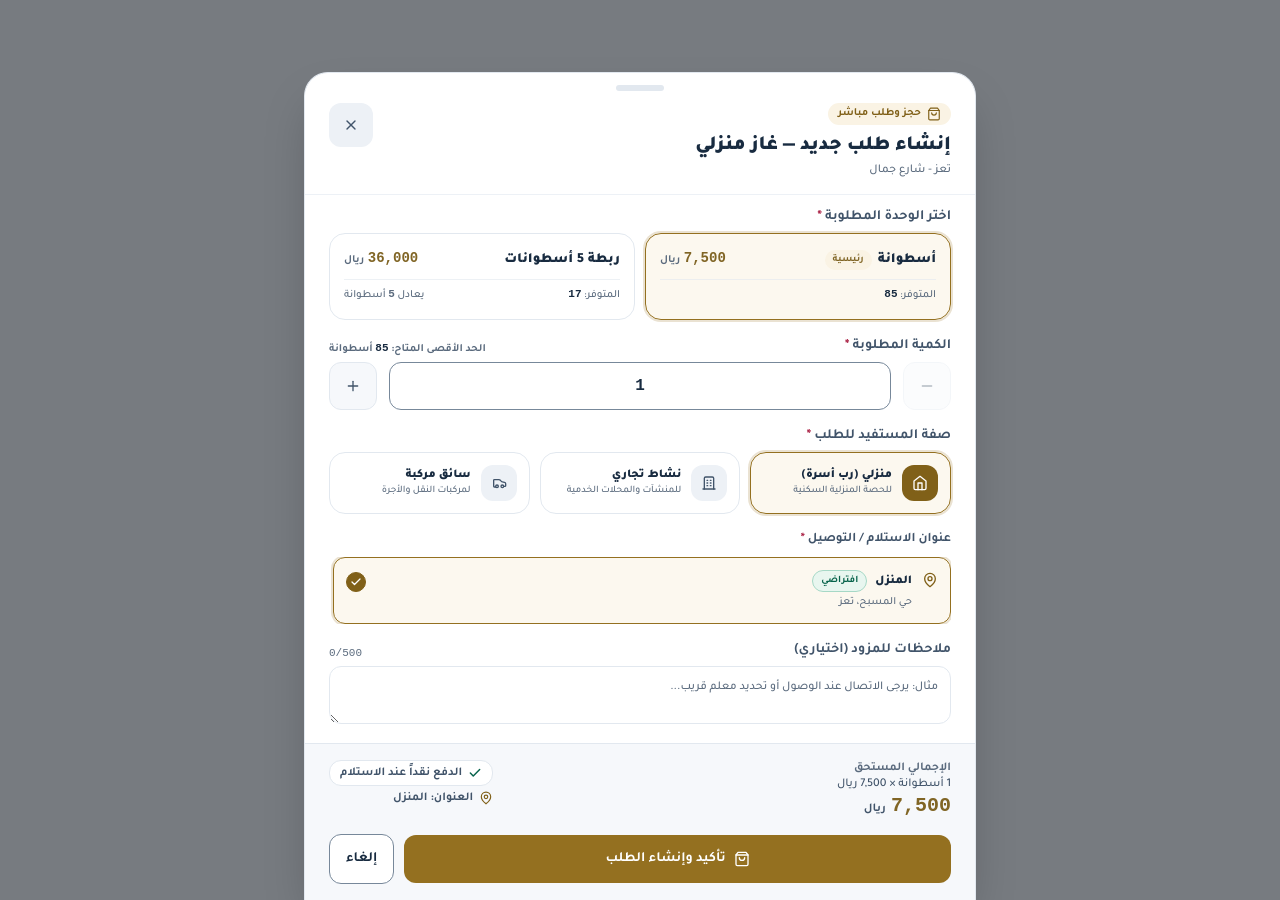
Test: CreateOrderSheet › يعرض رسالة الخطأ العربية عند رفض الخادم لصفة المستفيد (1803)
This screenshot has width=1280, height=900.
Expected: the text "المنزل" is shown, [875, 573, 912, 589]
Click the text "نشاط تجاري": (646, 475) [612, 469, 681, 481]
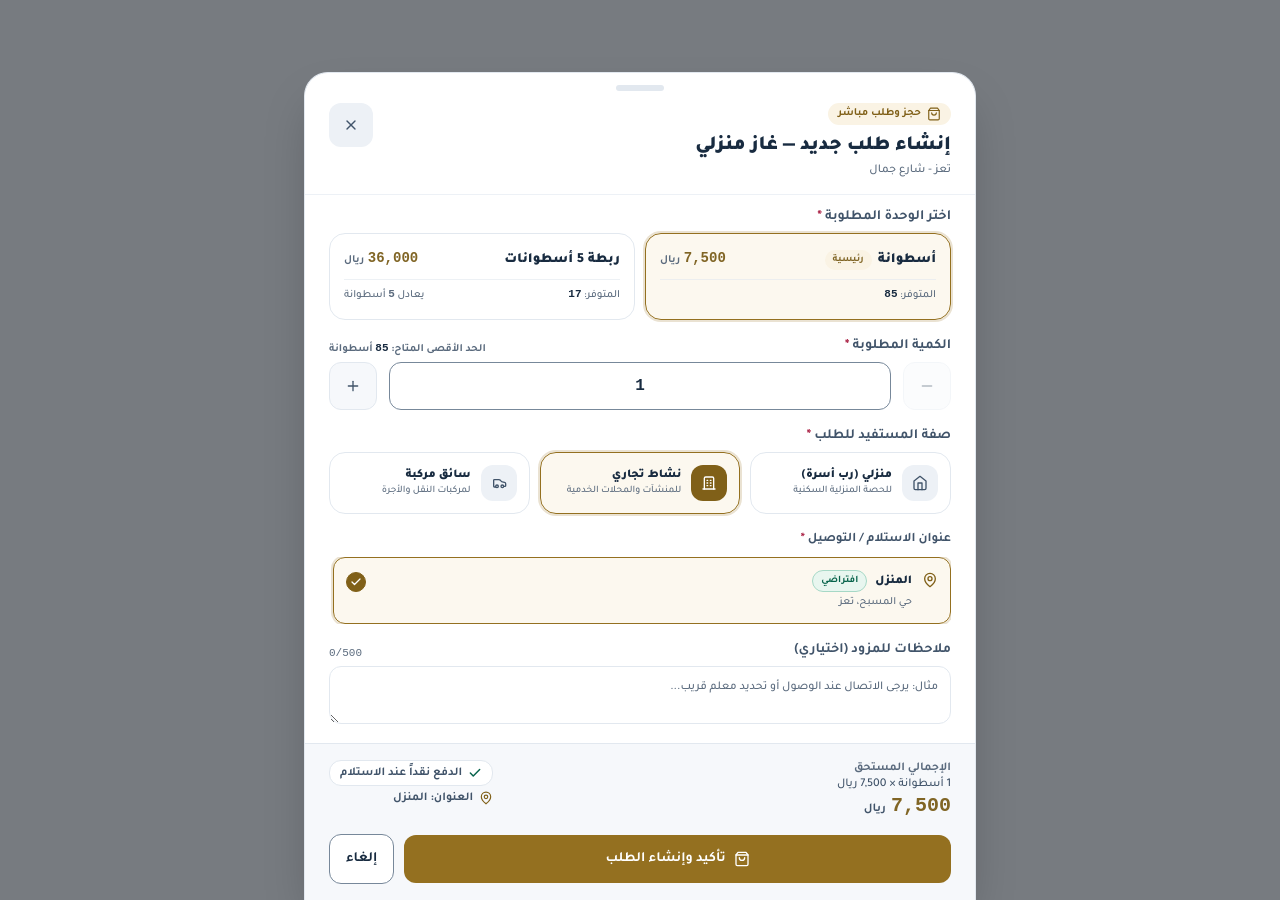
Click the button "تأكيد وإنشاء الطلب": (678, 859) [404, 835, 951, 883]
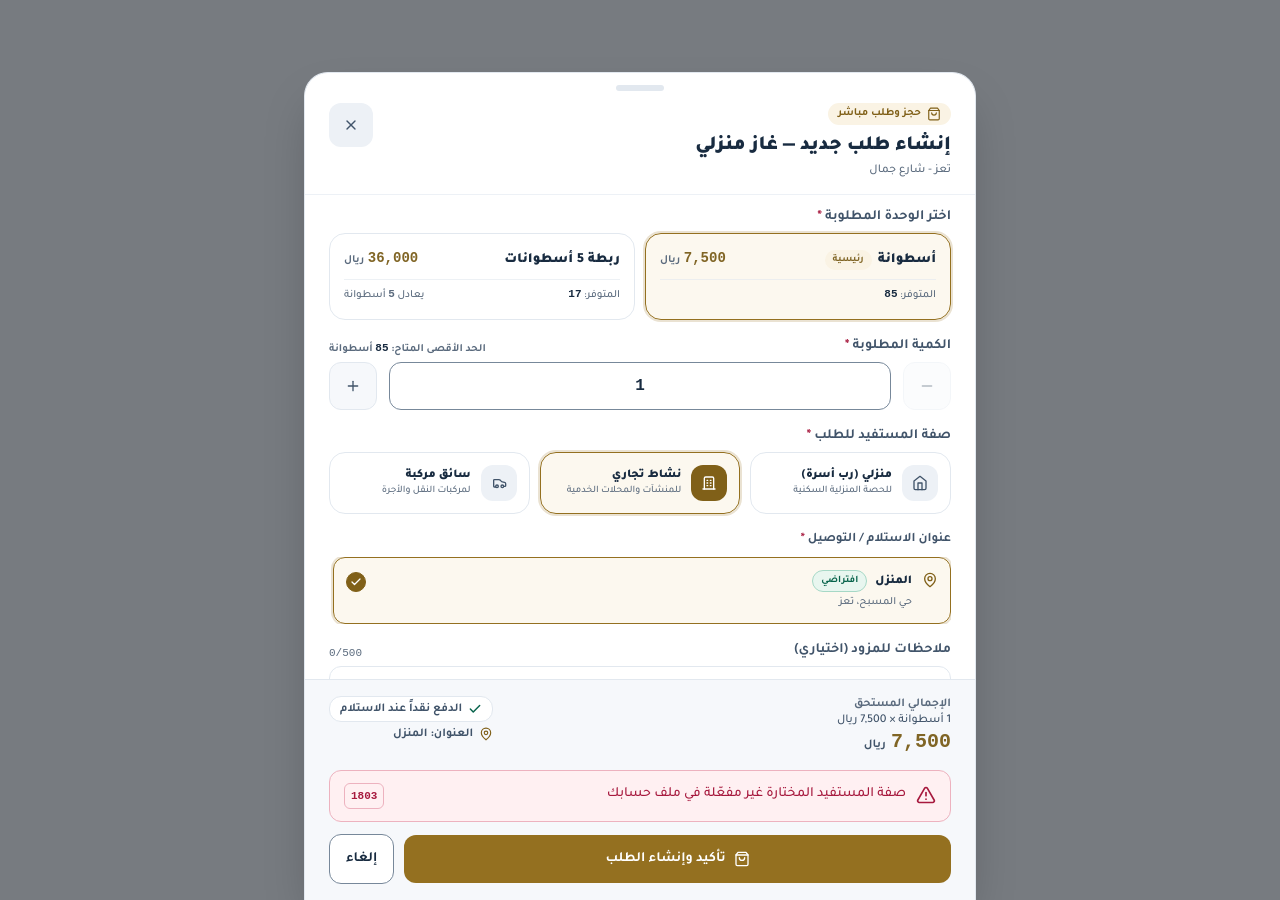
Now the text "صفة المستفيد المختارة غير مفعّلة في ملف حسابك" is shown, box [607, 787, 906, 801]
